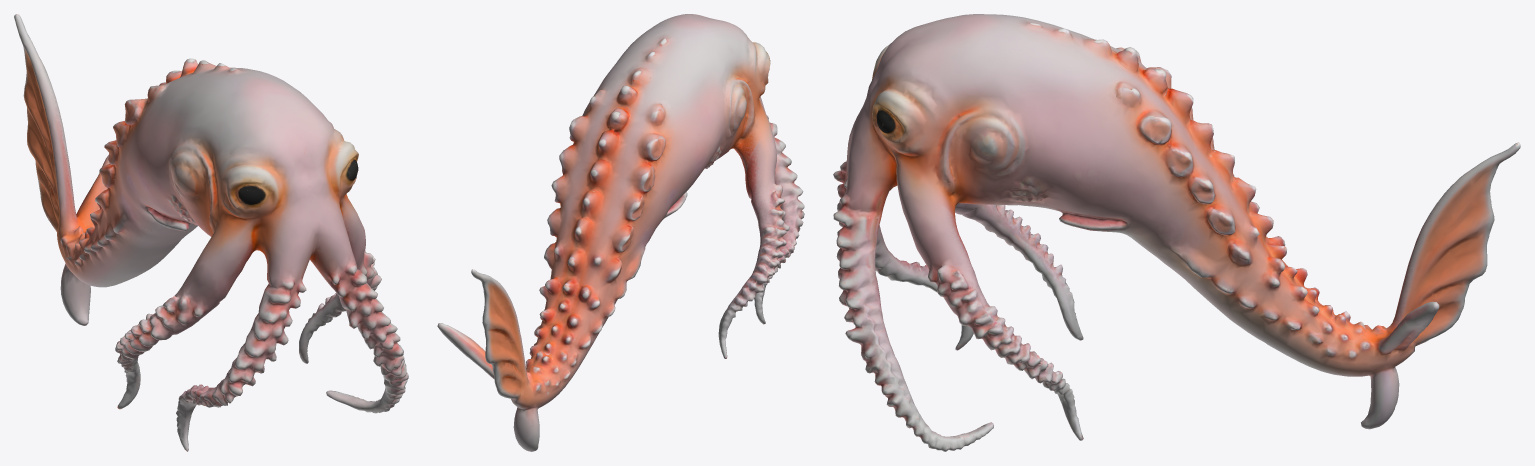
The model's file is cuttlefish.glb.
The picture shows the model from 3 angles, left to right: view 1: azimuth 30°, elevation 25°; view 2: azimuth 150°, elevation 25°; view 3: azimuth 270°, elevation 25°; orthographic projection. The views are drawn at different scales.
Size of the model in its own units: 0.8705 by 1.25 by 1.92.
1 material, 1 textured.
